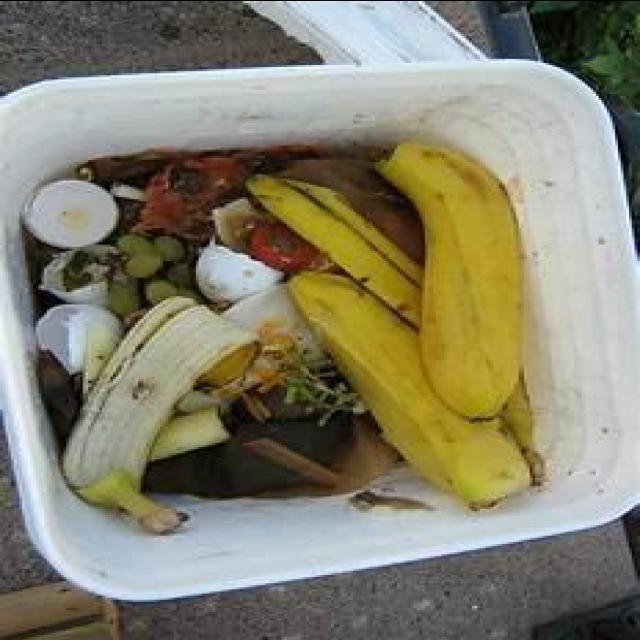Garbage: (4, 119, 572, 541)
